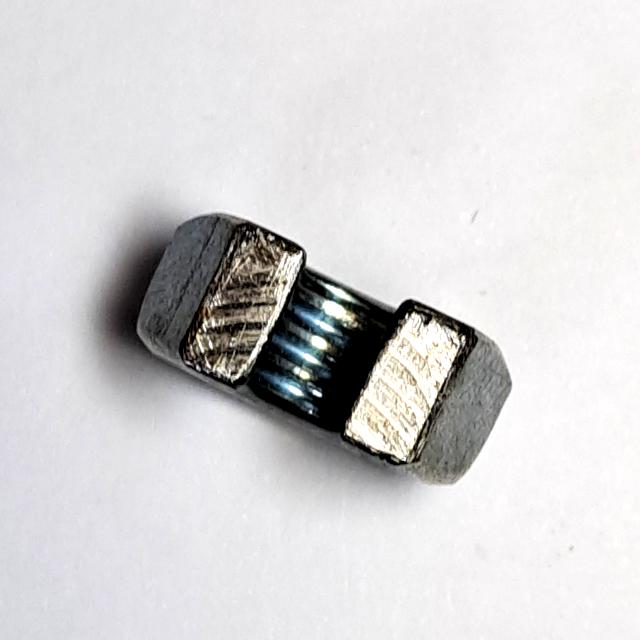Side-Fracture: (126, 194, 521, 505)
